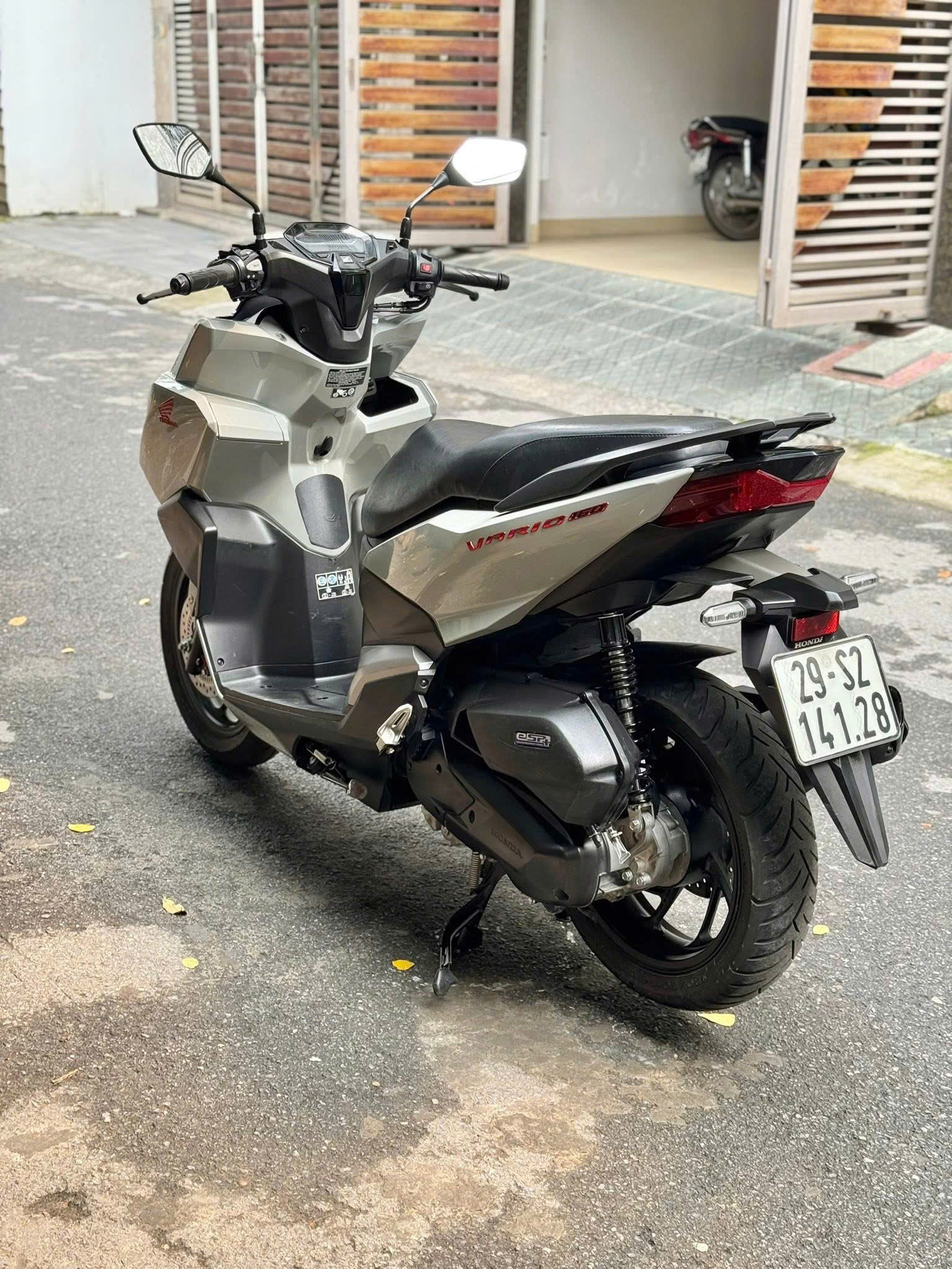Bien-so: (795, 621, 944, 767)
